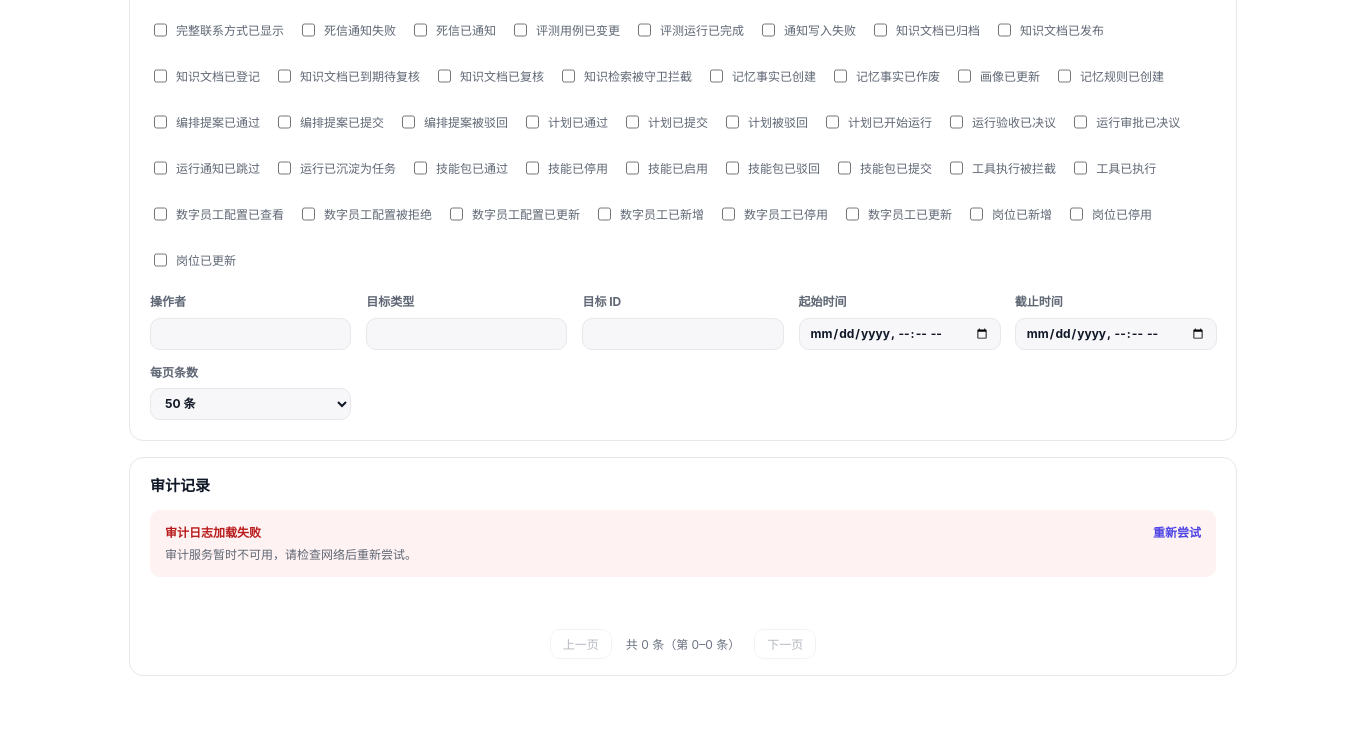
Test: AuditLogPage › shows an error and retries the same query
This screenshot has width=1366, height=732.
(page scrolled)
Check: the message shows "审计日志加载失败", box [165,525,261,540]
Check: the text "审计服务暂时不可用，请检查网络后重新尝试。" is shown, box [165,547,417,562]
Click the button "重新尝试" at (1177, 532), box [1153,523,1201,542]
(page scrolled)
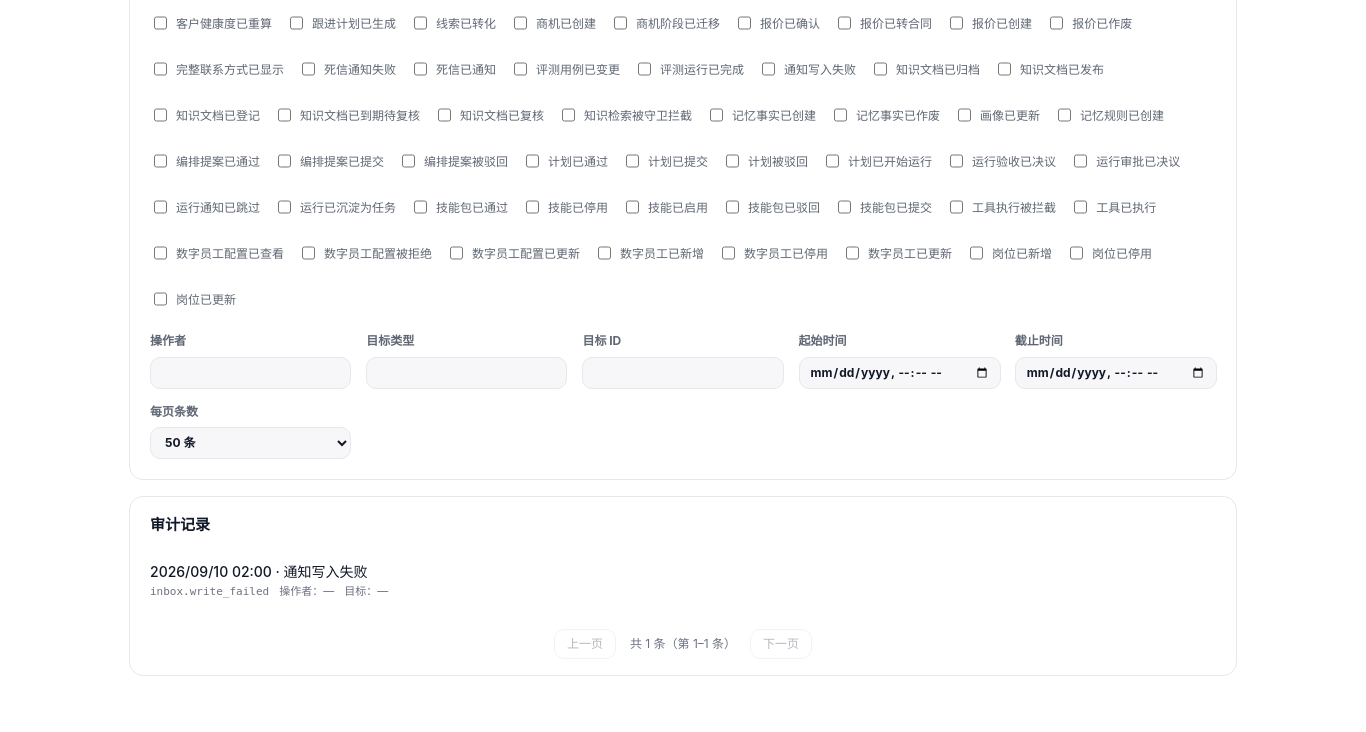
Check: the text "inbox.write_failed" is shown, box [150,583,269,601]
